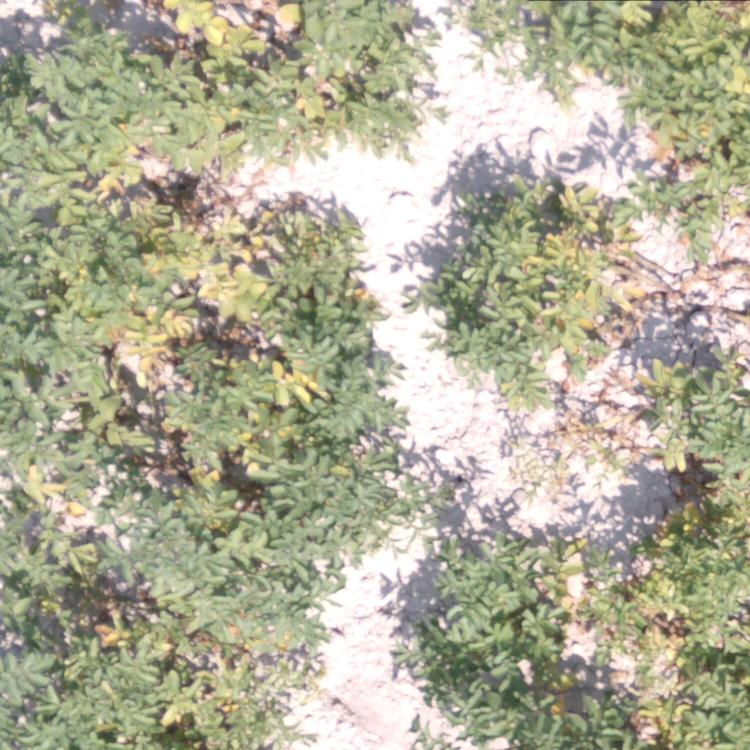healthy: (515, 176, 646, 363), (466, 1, 742, 77), (1, 1, 133, 158), (397, 528, 523, 653), (426, 192, 513, 354), (1, 165, 55, 417)
stressed: (117, 536, 340, 748), (57, 256, 254, 416), (133, 1, 315, 163), (254, 214, 370, 415), (436, 652, 639, 750), (57, 161, 254, 258), (1, 581, 109, 748), (1, 422, 113, 582), (270, 417, 423, 524), (649, 84, 750, 246), (320, 1, 431, 145), (646, 487, 750, 640), (121, 423, 262, 533), (613, 363, 749, 477), (529, 537, 642, 648), (643, 637, 745, 746), (491, 363, 579, 445)
